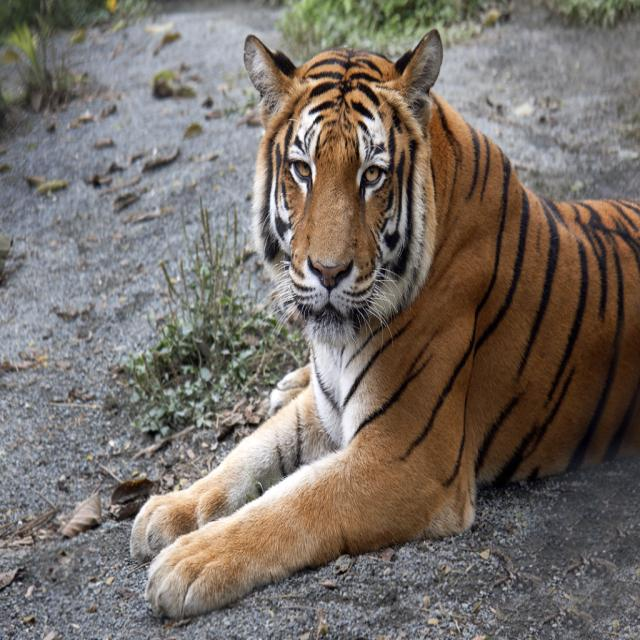Tiger: (128, 28, 639, 617)
